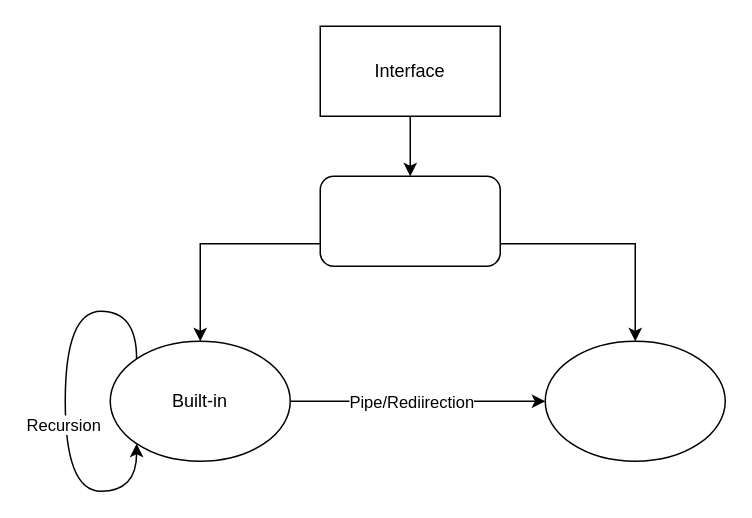
This 752x518 diagram has some shape labels left out. Each missing label, with the centre of its shape:
"External" goes at (634,400).
"Workers" goes at (409,220).
